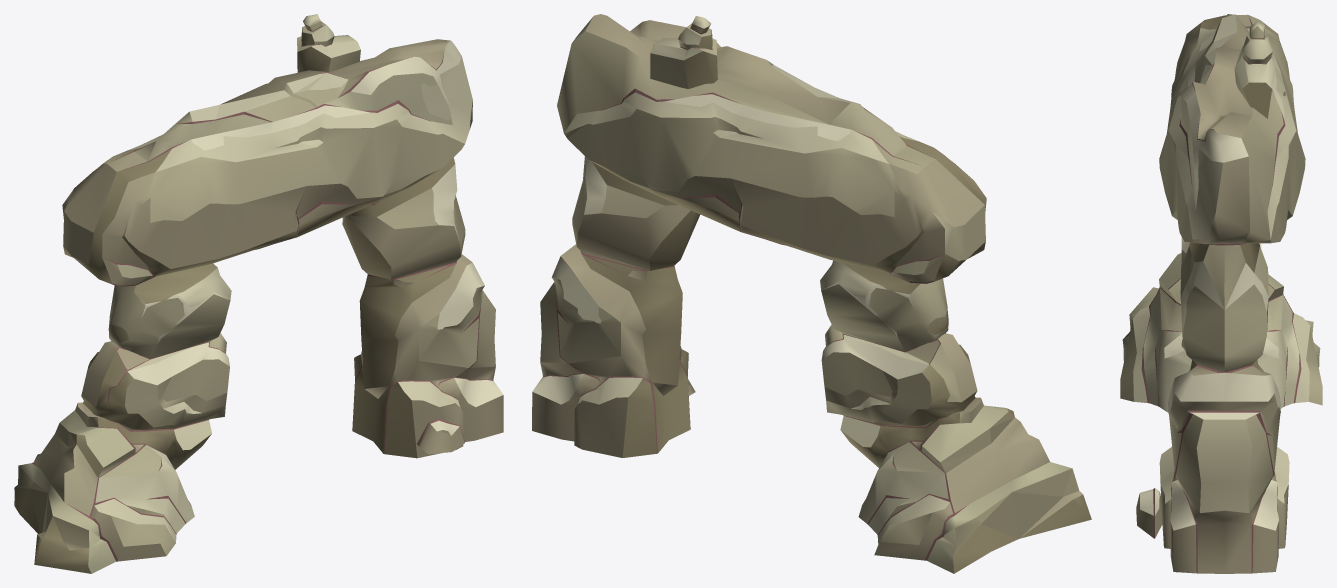
The model's file is Mesh_Adventure_Forest_StoneArches_SM.fbx.
3 views of the same model, side by side, from view 1: azimuth 30°, elevation 25°; view 2: azimuth 150°, elevation 25°; view 3: azimuth 270°, elevation 25° (orthographic). The views are drawn at different scales.
Visible parts, largest first — view 1: Mesh_Adventure_Forest_StoneArches; view 2: Mesh_Adventure_Forest_StoneArches; view 3: Mesh_Adventure_Forest_StoneArches.
Part boxes in pixels (x1,y1,x2,y2): Mesh_Adventure_Forest_StoneArches: (14,14,503,573); Mesh_Adventure_Forest_StoneArches: (532,14,1091,573); Mesh_Adventure_Forest_StoneArches: (1120,14,1322,573).
Size of the model in its own units: 282 by 246 by 92.7.
Materials: 1 (1 with a texture image).
